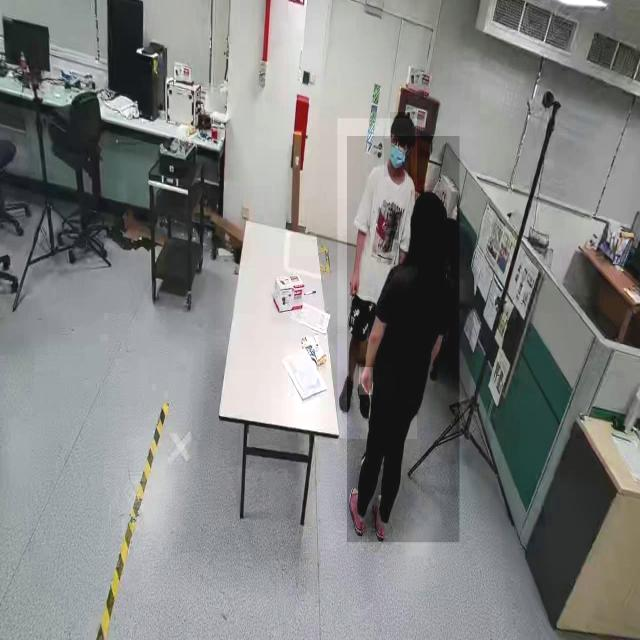face_mask: (384, 139, 410, 177)
hand_noglove: (359, 367, 373, 396), (349, 267, 360, 297)
head_nohelmet: (410, 190, 448, 228), (390, 112, 416, 137)
person: (347, 136, 460, 543), (337, 118, 417, 439)
shoes: (347, 484, 368, 539), (371, 488, 389, 542), (338, 372, 356, 414)
